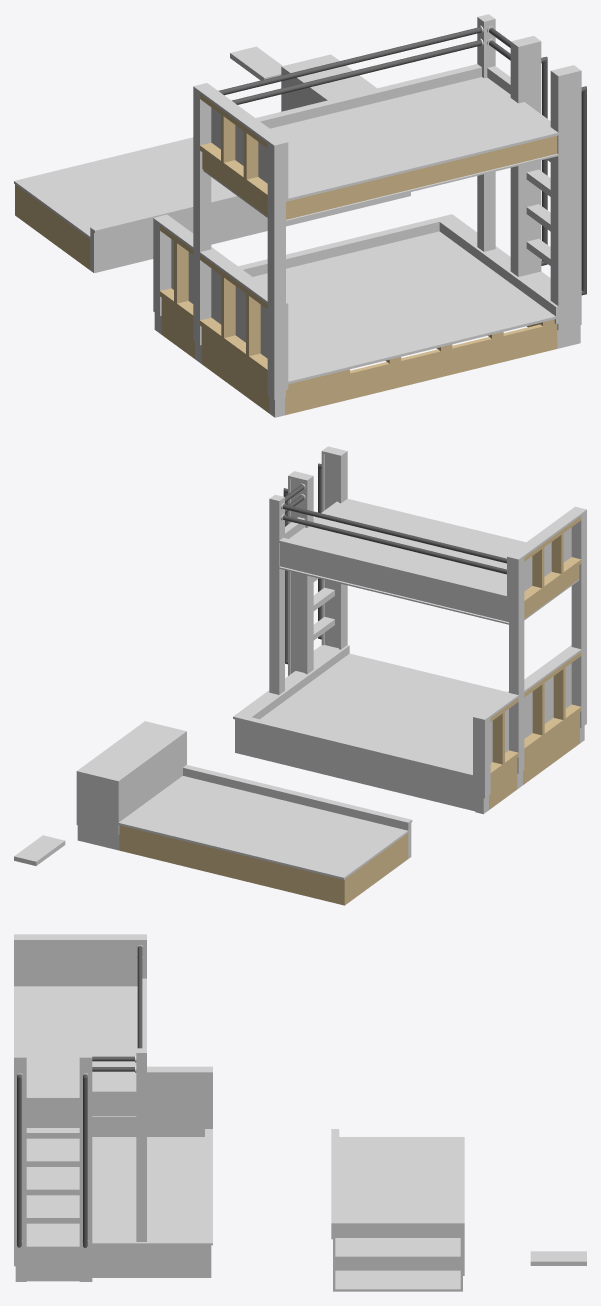
File: bunks-project-painted.glb
3 views of the same model, one above another, from view 1: azimuth 30°, elevation 25°; view 2: azimuth 150°, elevation 25°; view 3: azimuth 270°, elevation 25° (orthographic). The views are drawn at different scales.
Parts seen in each view (by area): view 1: queen-platform.002, twin-platform-top.002, bed-platform.002, queen-rail-side.004, twin-rail-side.004, leg.013, bed-rail-molding.001, leg.011, leg.014, ladder-leg.004, leg.015, queen-rail-head.004 (+34 smaller); view 2: queen-platform.002, bed-platform.002, twin-platform-top.002, queen-rail-side-molding.001, twin-rail-molding.004, bed-rail-side.004, leg.014, leg.012, leg.013, cabinet-back.002, cabinet-top.002, cabinet-side.008 (+27 smaller); view 3: queen-platform.002, twin-platform-top.002, bed-platform.002, twin-head.002, queen-head.002, queen-rail-foot-molding.008, cabinet-back.002, cabinet-top.002, cabinet-bottom.002, cabinet-shelf.002, leg.012, ladder-leg.005 (+20 smaller).
Boxes of the visible parts, <box> form: queen-platform.002: <box>253,231,555,384</box>; twin-platform-top.002: <box>270,77,558,200</box>; bed-platform.002: <box>14,137,232,238</box>; queen-rail-side.004: <box>285,323,557,415</box>; twin-rail-side.004: <box>286,136,557,219</box>; leg.013: <box>267,144,285,417</box>; bed-rail-molding.001: <box>93,198,361,273</box>; leg.011: <box>551,74,569,348</box>; leg.014: <box>193,89,211,363</box>; ladder-leg.004: <box>569,73,581,345</box>; leg.015: <box>511,45,529,276</box>; queen-rail-head.004: <box>201,327,269,413</box>; queen-platform.002: <box>260,653,506,771</box>; bed-platform.002: <box>118,776,408,879</box>; twin-platform-top.002: <box>289,498,525,592</box>; queen-rail-side-molding.001: <box>236,720,475,811</box>; twin-rail-molding.004: <box>280,543,508,621</box>; bed-rail-side.004: <box>119,829,340,904</box>; leg.014: <box>509,558,524,788</box>; leg.012: <box>269,499,284,694</box>; leg.013: <box>571,512,586,743</box>; cabinet-back.002: <box>119,732,185,821</box>; cabinet-top.002: <box>78,721,185,780</box>; cabinet-side.008: <box>76,770,119,834</box>; queen-platform.002: <box>26,1137,204,1236</box>; twin-platform-top.002: <box>14,986,137,1096</box>; bed-platform.002: <box>339,1137,464,1203</box>; twin-head.002: <box>14,942,139,986</box>; queen-head.002: <box>26,1074,204,1136</box>; queen-rail-foot-molding.008: <box>92,1246,211,1277</box>; cabinet-back.002: <box>335,1225,460,1270</box>; cabinet-top.002: <box>333,1203,462,1225</box>; cabinet-bottom.002: <box>333,1270,462,1291</box>; cabinet-shelf.002: <box>335,1238,460,1258</box>; leg.012: <box>136,1055,146,1241</box>; ladder-leg.005: <box>79,1059,90,1281</box>.
Bounding box in the file's own units: 2.55 × 2.01 × 4.65.
